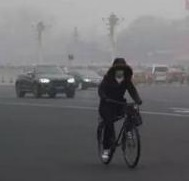person: (95, 56, 140, 162)
